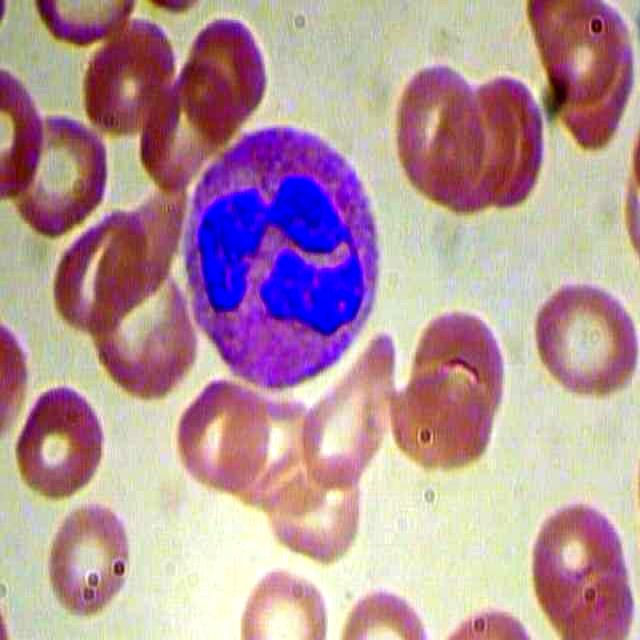RBC: (298, 332, 400, 491), (390, 52, 490, 208), (523, 494, 629, 630), (48, 202, 151, 338), (384, 352, 499, 472), (530, 276, 640, 400), (10, 110, 111, 242), (39, 492, 140, 623), (173, 367, 272, 497), (79, 15, 179, 140), (12, 378, 109, 506), (182, 14, 278, 126)
WBC: (175, 116, 389, 397)
